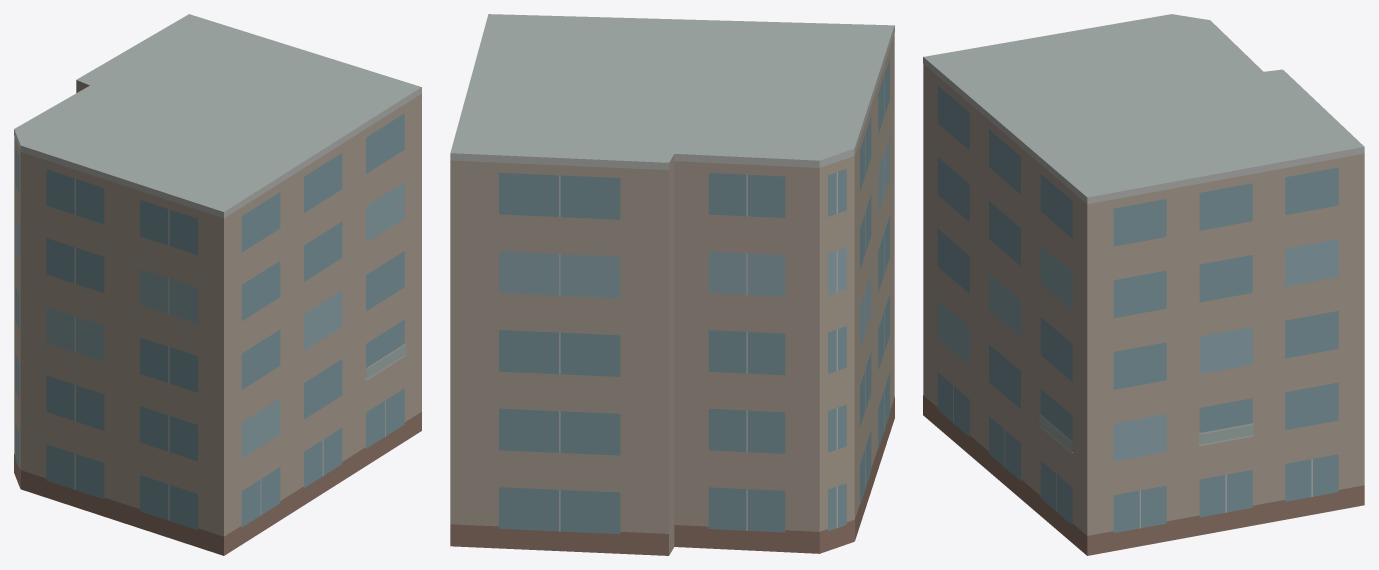
Rendered from survey-upis-32887057.glb.
The picture shows the model from 3 angles, left to right: view 1: azimuth 30°, elevation 25°; view 2: azimuth 150°, elevation 25°; view 3: azimuth 270°, elevation 25°; orthographic projection. The views are drawn at different scales.
Parts seen in each view (by area): view 1: survey-upis-32887057.tmp; view 2: survey-upis-32887057.tmp; view 3: survey-upis-32887057.tmp.
Part boxes in pixels (x1,y1,x2,y2): survey-upis-32887057.tmp: (14,14,421,555); survey-upis-32887057.tmp: (450,14,894,555); survey-upis-32887057.tmp: (923,14,1364,555).
Bounding box in the file's own units: 14.4 × 13.1 × 14.64.
